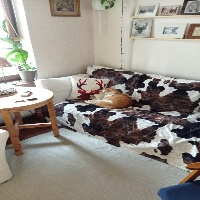asleep: (85, 88, 132, 108)
